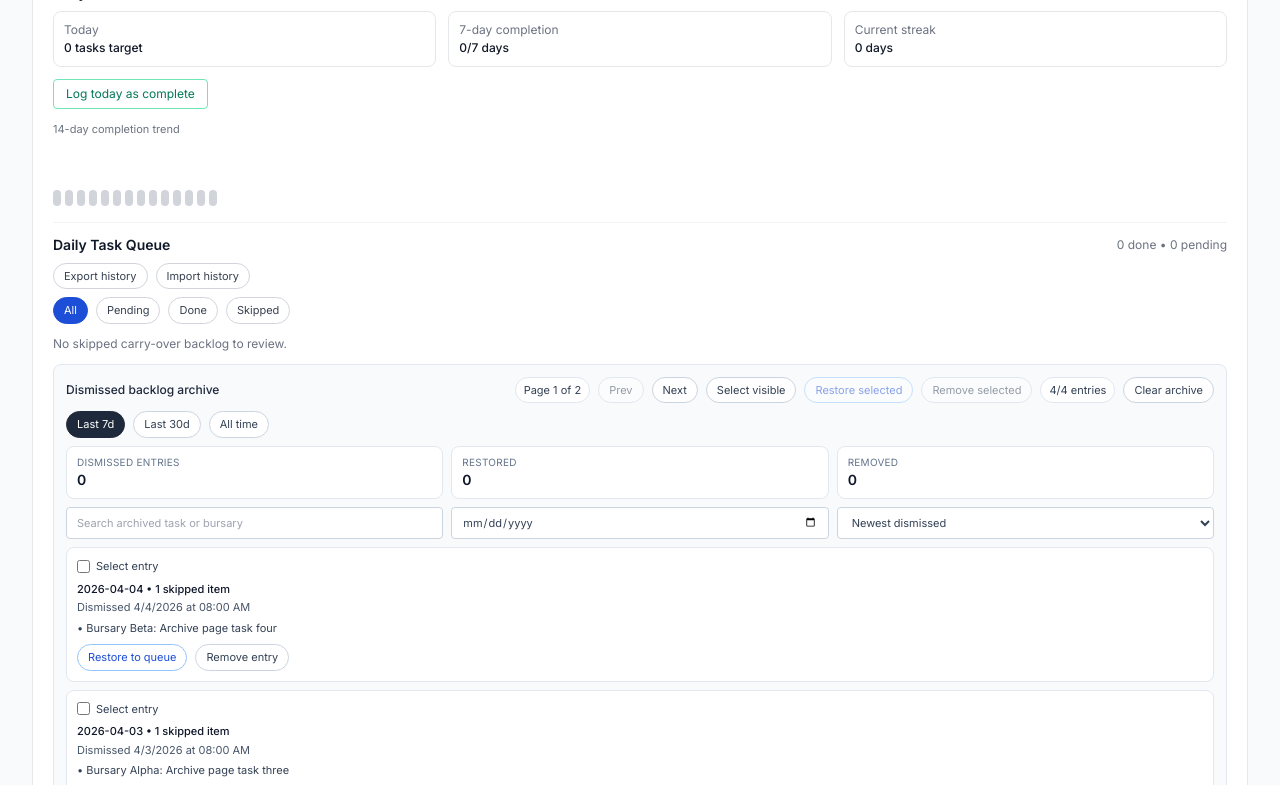
Scenario: ApplicationTracker phase 2.5 interactions › paginates dismissed backlog archive entries
(page scrolled)
Expected: the text "Page 1 of 2" is shown, [515,376,590,403]
Expected: the list item "• Bursary Beta: Archive page task four" is shown, [77,620,277,634]
Click the button with aria-label "Next archive page". click: (675, 390)
box: [652,376,698,403]
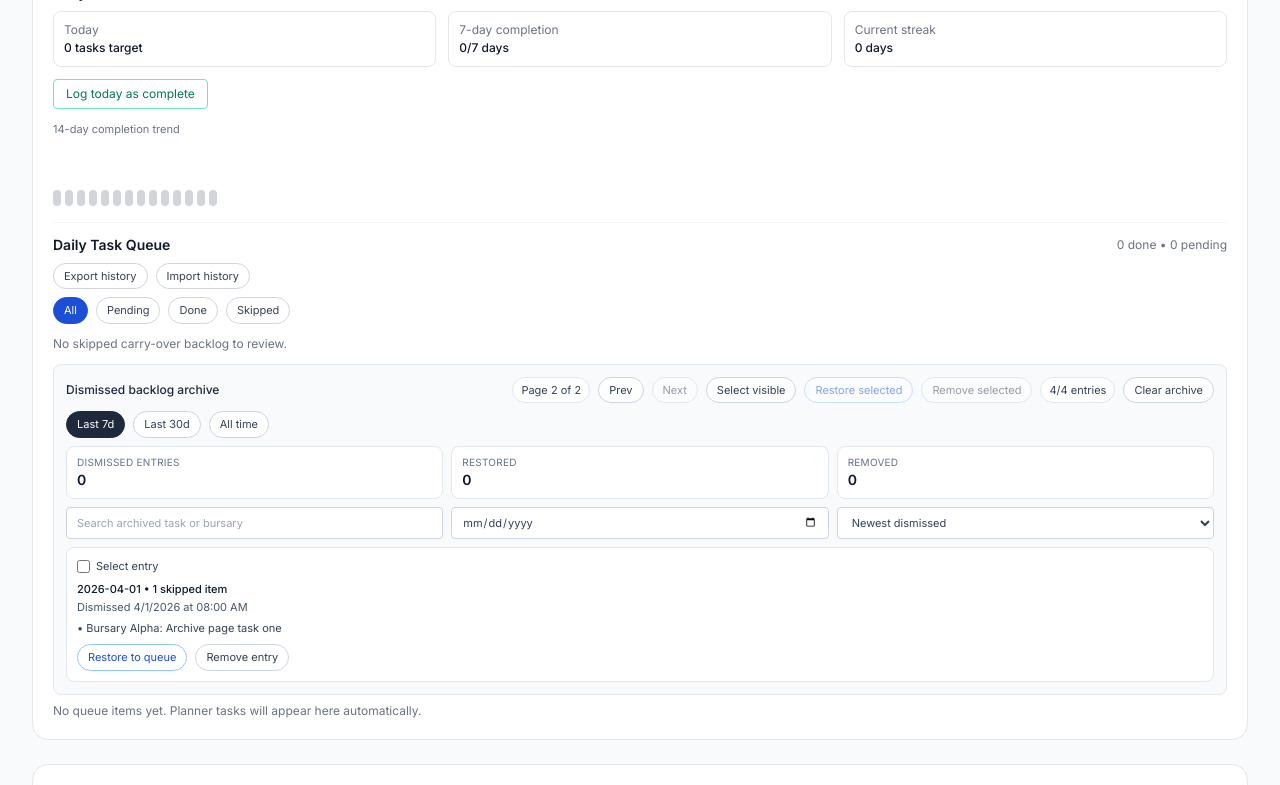
Now the text "Page 2 of 2" is shown, box [512,376,590,403]
Now the list item "• Bursary Alpha: Archive page task one" is shown, box [77,620,282,634]
Now the list item "Archive page task four" is gone
